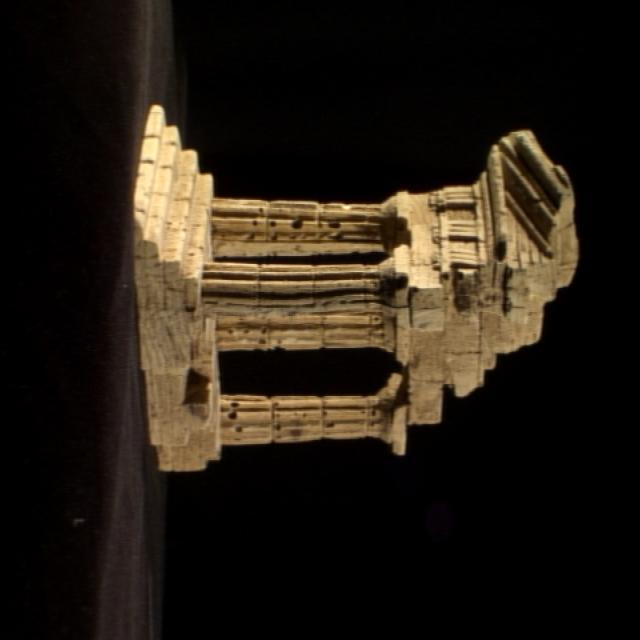Instance-Segmentation: (134, 107, 577, 469)
